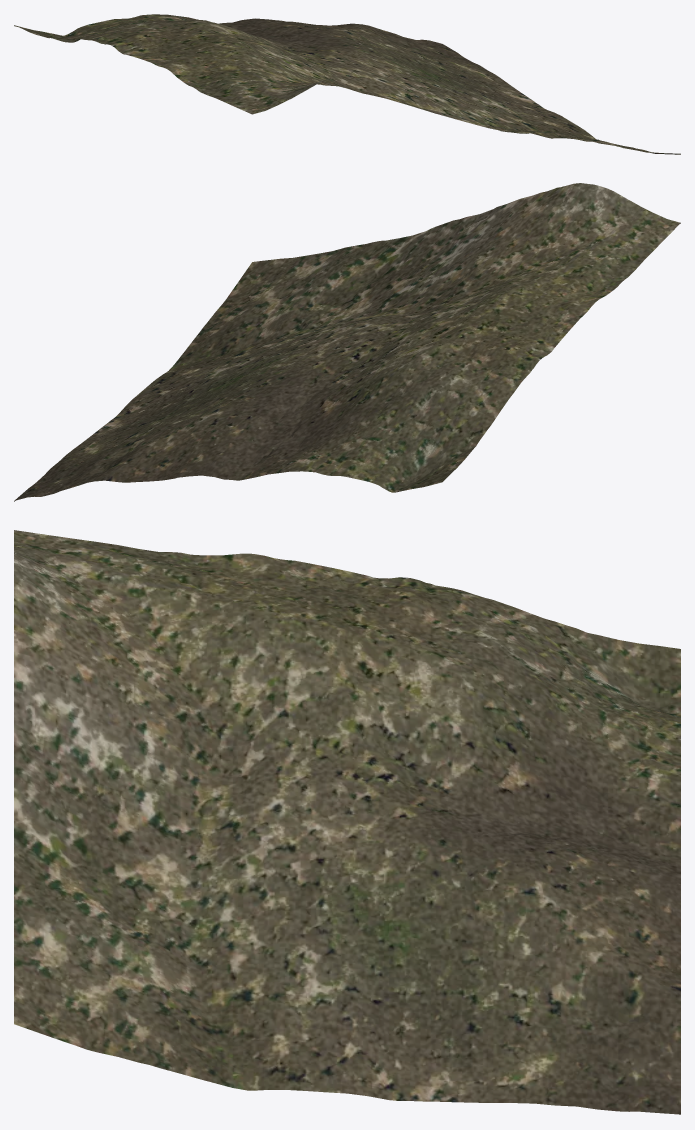
The picture shows the model from 3 angles, top to bottom: view 1: azimuth 30°, elevation 25°; view 2: azimuth 150°, elevation 25°; view 3: azimuth 270°, elevation 25°; orthographic projection. The views are drawn at different scales.
Bounding box in the file's own units: 500 × 252 × 481.
Materials: 1 (1 with a texture image).
